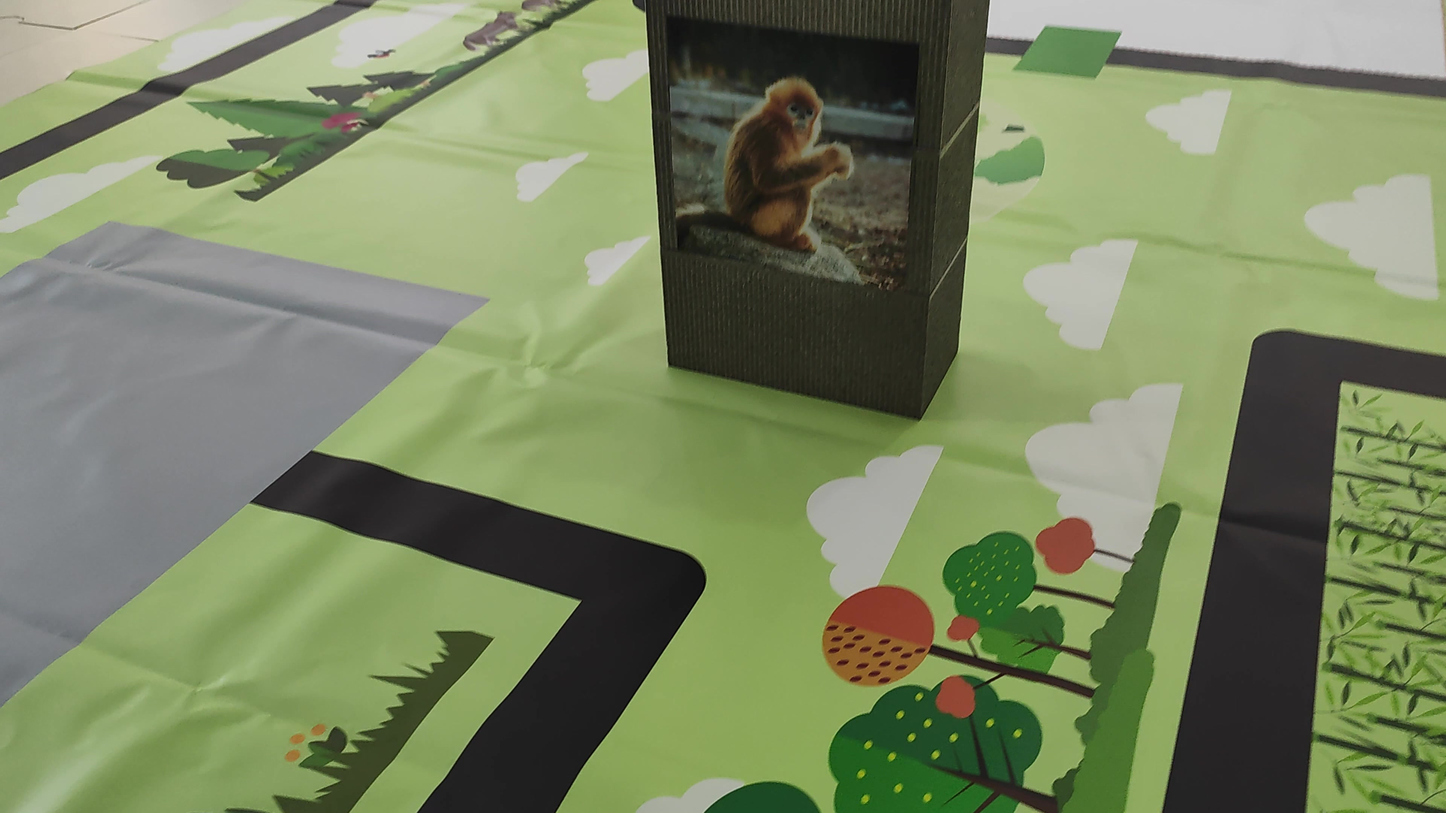monkey: (673, 42, 907, 276)
